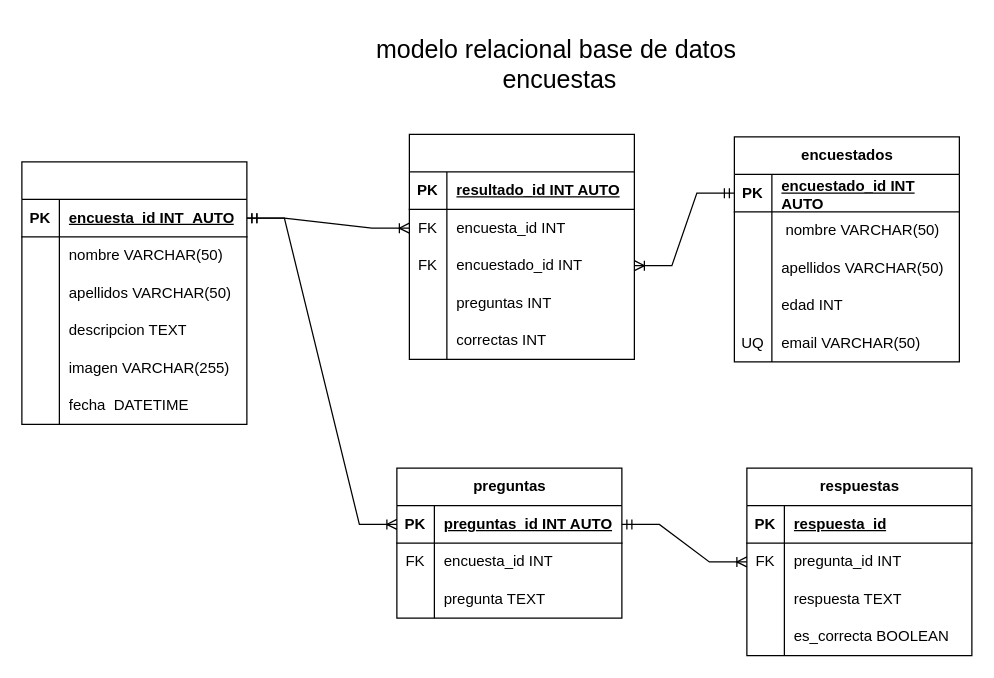
The diagram is 994 pixels wide and 678 high, and some of its shapes have lost their labels. The shapes that lost their labels are listed below. From the top down, each one's box as (x1, y1, x2, y2) in pixels, then its label:
(408, 133, 634, 359): resultados
(21, 161, 247, 424): encuestas
